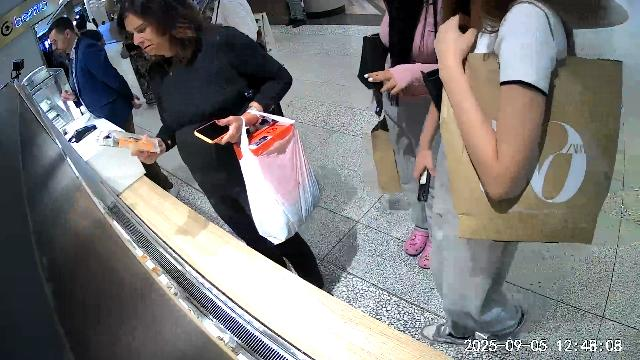sushi-box: (97, 130, 164, 156)
